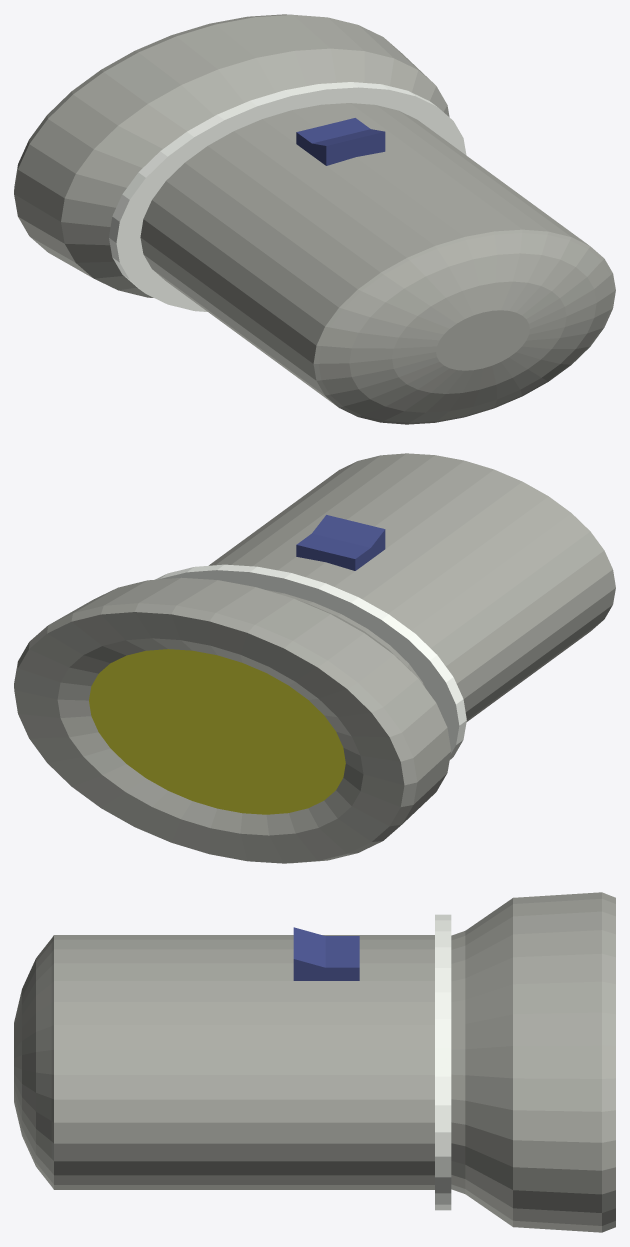
File: flashlight.fbx
The picture shows the model from 3 angles, top to bottom: view 1: azimuth 30°, elevation 25°; view 2: azimuth 150°, elevation 25°; view 3: azimuth 270°, elevation 25°; orthographic projection. The views are drawn at different scales.
Parts seen in each view (by area): view 1: Circle; view 2: Circle; view 3: Circle.
Part boxes in pixels (x1,y1,x2,y2): Circle: (14, 14, 615, 424); Circle: (14, 453, 615, 863); Circle: (14, 892, 615, 1232).
Bounding box in the file's own units: 47.02 × 26.81 × 55.25.
